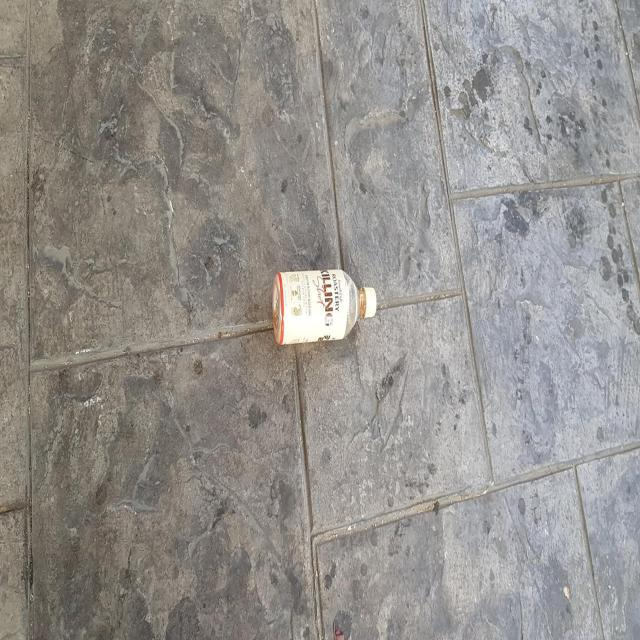plastic: (273, 268, 377, 344)
